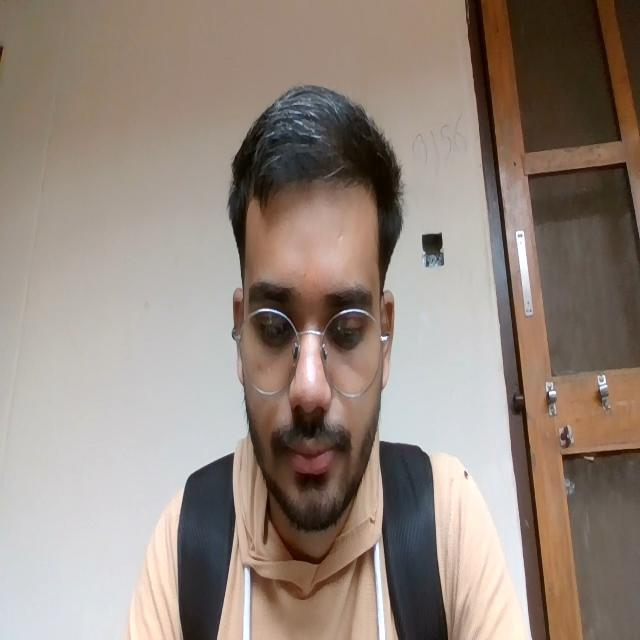drowsy: (246, 273, 374, 481)
